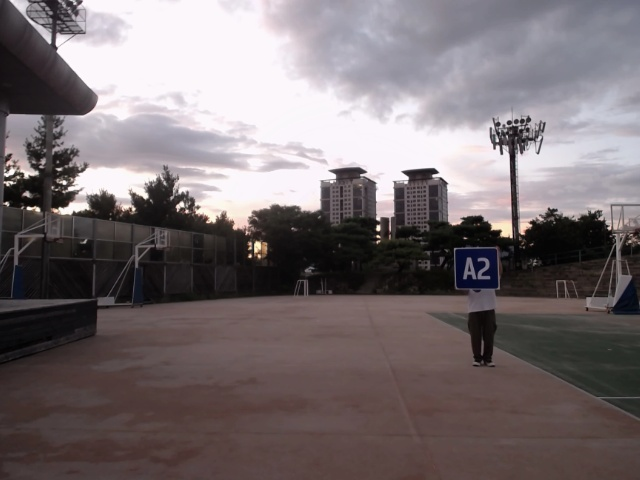delivery_a2: (454, 247, 500, 289)
